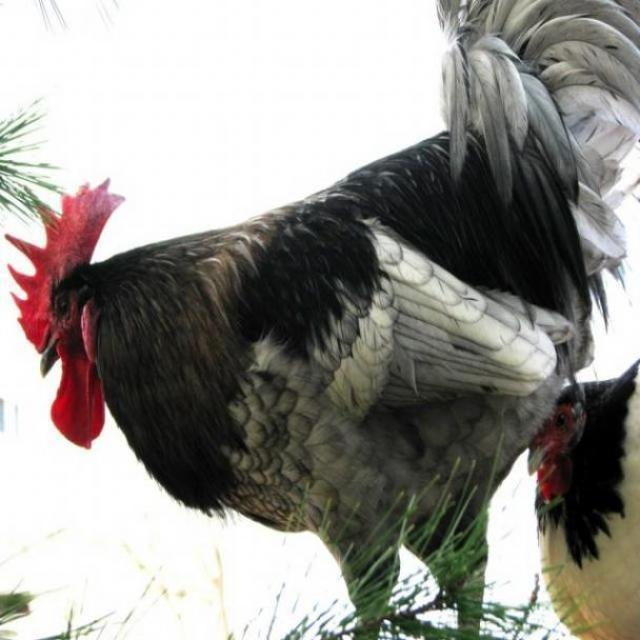Chicken: (23, 34, 640, 607)
